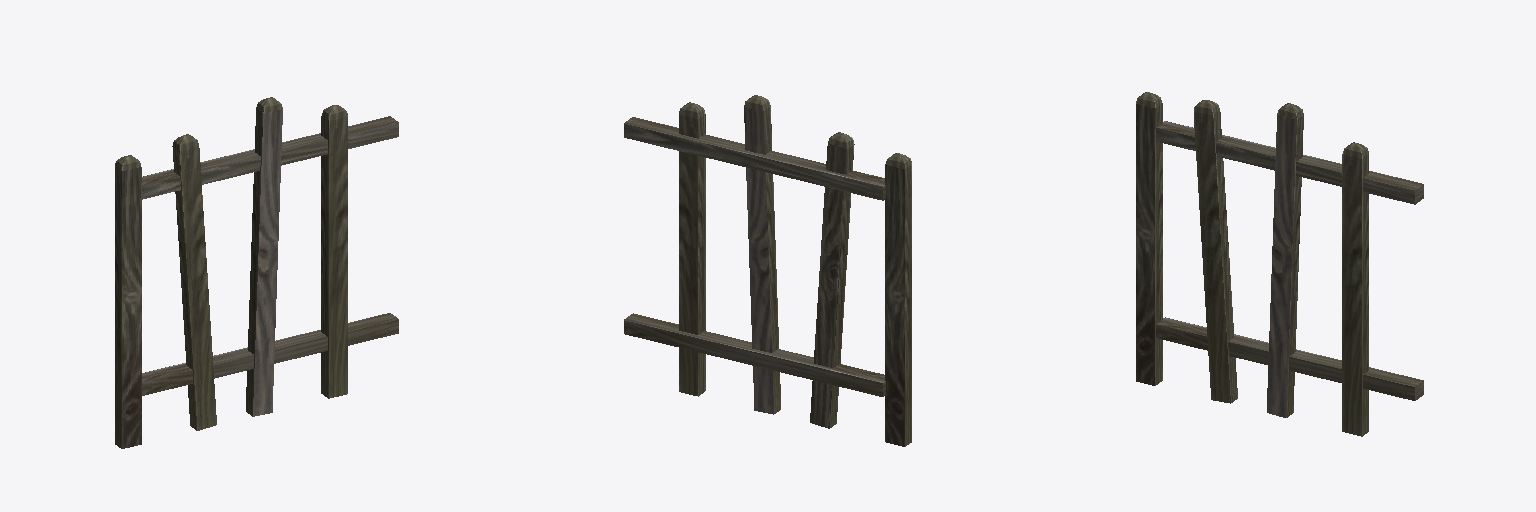
The picture shows the model from 3 angles: view 1: azimuth 30°, elevation 25°; view 2: azimuth 150°, elevation 25°; view 3: azimuth 330°, elevation 25°; orthographic projection.
Parts seen in each view (by area): view 1: Form7, Form9; view 2: Form7, Form9; view 3: Form7, Form9.
Boxes of the visible parts, x1,y1,x2,y2 form: Form7: [115, 97, 347, 448]; Form9: [142, 116, 398, 395]; Form7: [679, 95, 911, 446]; Form9: [624, 117, 885, 396]; Form7: [1136, 92, 1368, 436]; Form9: [1156, 121, 1423, 400].
Size of the model in its own units: 3.8 by 4.07 by 0.241.
1 materials, 1 textured.